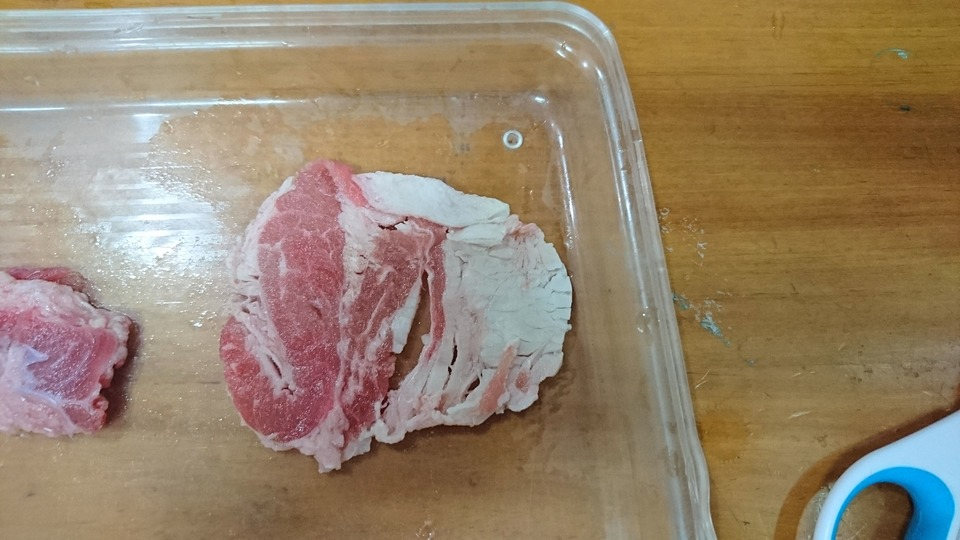restructured meat: (216, 154, 575, 473)
